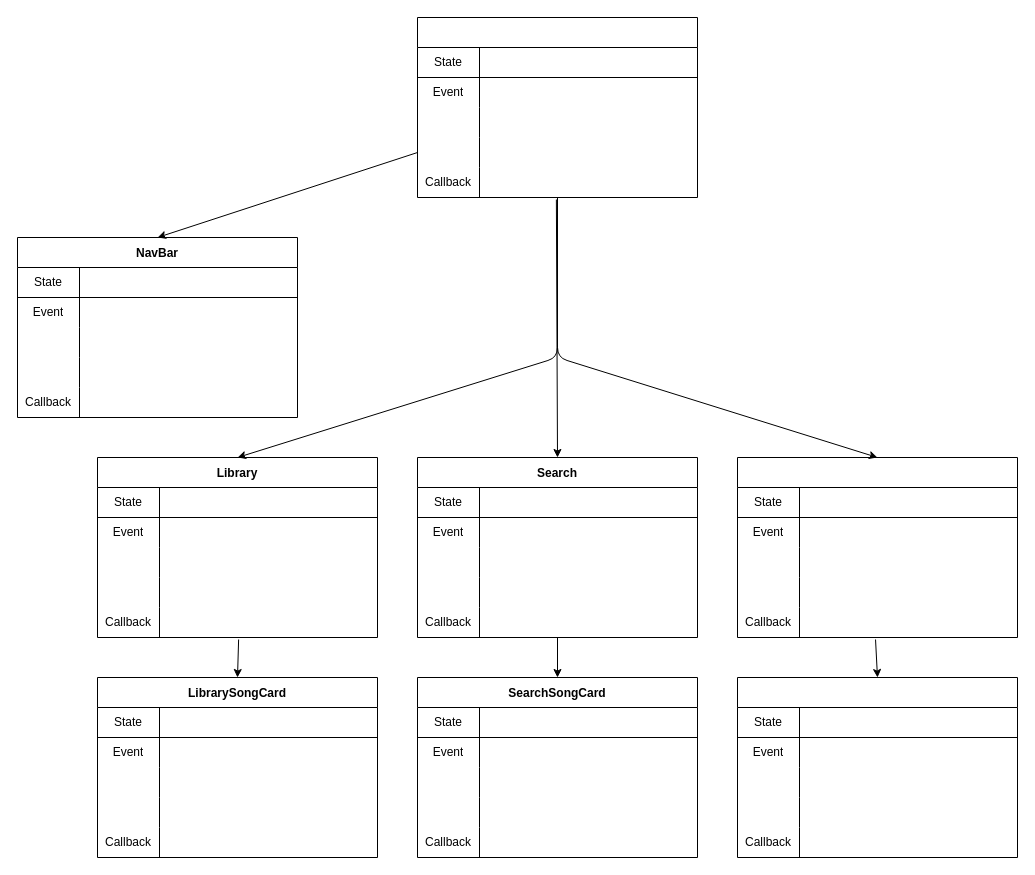
Image size: 1035x875. Some labels were removed from this diagram. The shapes that lost their labels are listed below. From the top down, each one's box as (x1, y1, x2, y2) in pixels, then its label:
(416, 16, 698, 198): App
(736, 456, 1018, 638): Home
(736, 676, 1018, 858): HomeSongCard
